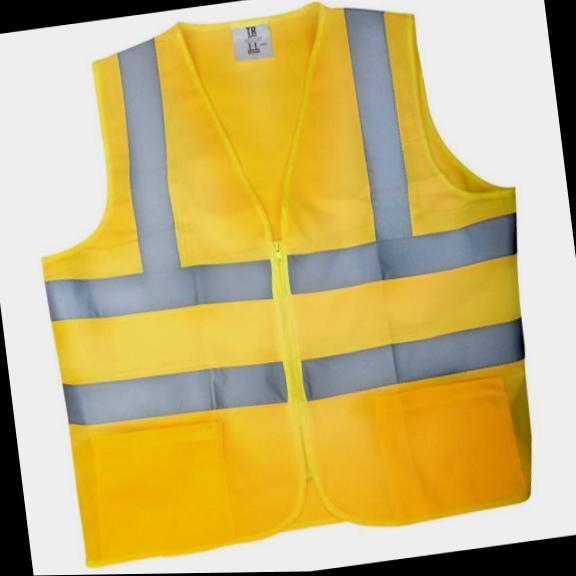safety_vest: (8, 0, 554, 571)
